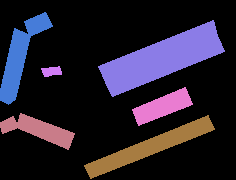parkingspot: (84, 115, 214, 178), (98, 20, 218, 84), (105, 37, 224, 96), (132, 87, 192, 125), (0, 28, 30, 104), (16, 113, 74, 149), (24, 12, 52, 36), (0, 116, 18, 133), (41, 66, 61, 76)
